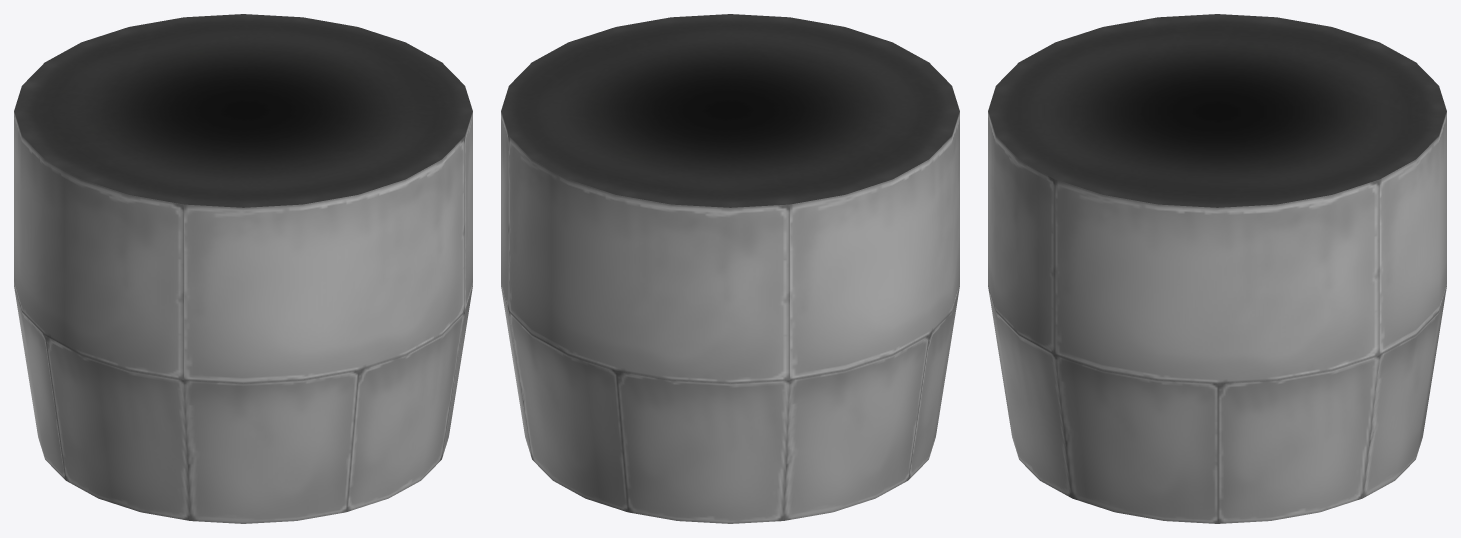
The model's file is ThorEngineFairings.dae.
The picture shows the model from 3 angles, left to right: view 1: azimuth 30°, elevation 25°; view 2: azimuth 150°, elevation 25°; view 3: azimuth 270°, elevation 25°; orthographic projection.
Visible parts, largest first — view 1: polySurface18, polySurface14; view 2: polySurface18, polySurface14; view 3: polySurface18, polySurface14.
Boxes of the visible parts, x1,y1,x2,y2 form: polySurface18: [14, 111, 472, 523]; polySurface14: [14, 14, 472, 207]; polySurface18: [501, 111, 959, 523]; polySurface14: [501, 14, 959, 207]; polySurface18: [988, 111, 1446, 523]; polySurface14: [988, 14, 1446, 207].
Bounding box in the file's own units: 1.52 × 1.19 × 1.52.
